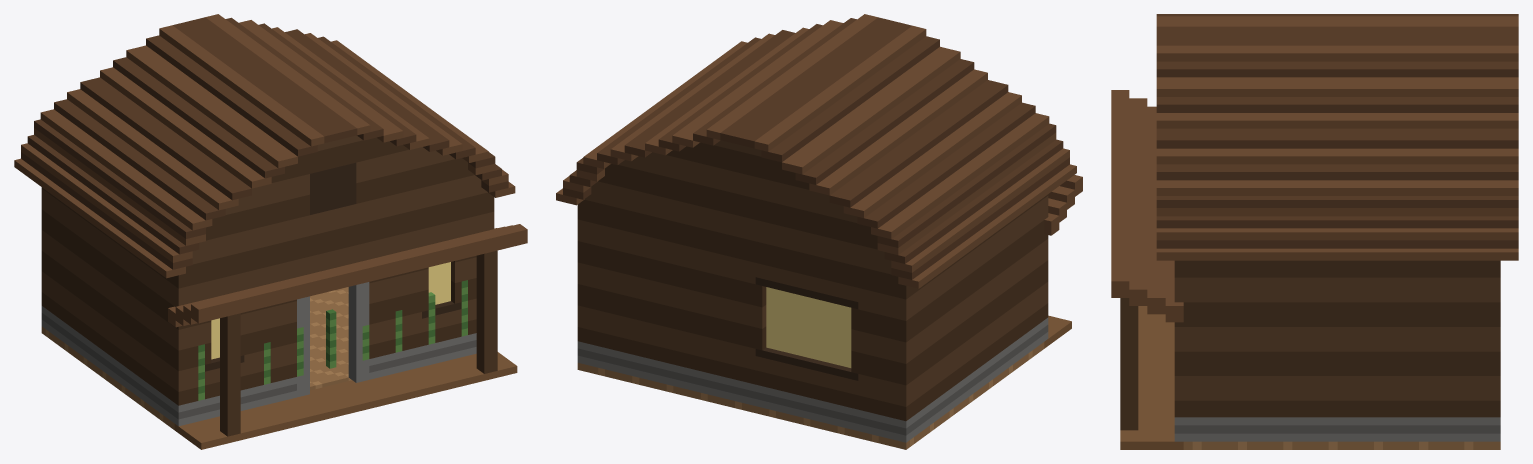
Rendered from granero.obj.
3 views of the same model, side by side, from view 1: azimuth 30°, elevation 25°; view 2: azimuth 150°, elevation 25°; view 3: azimuth 270°, elevation 25° (orthographic). The views are drawn at different scales.
Bounding box in the file's own units: 53 × 39 × 45.
